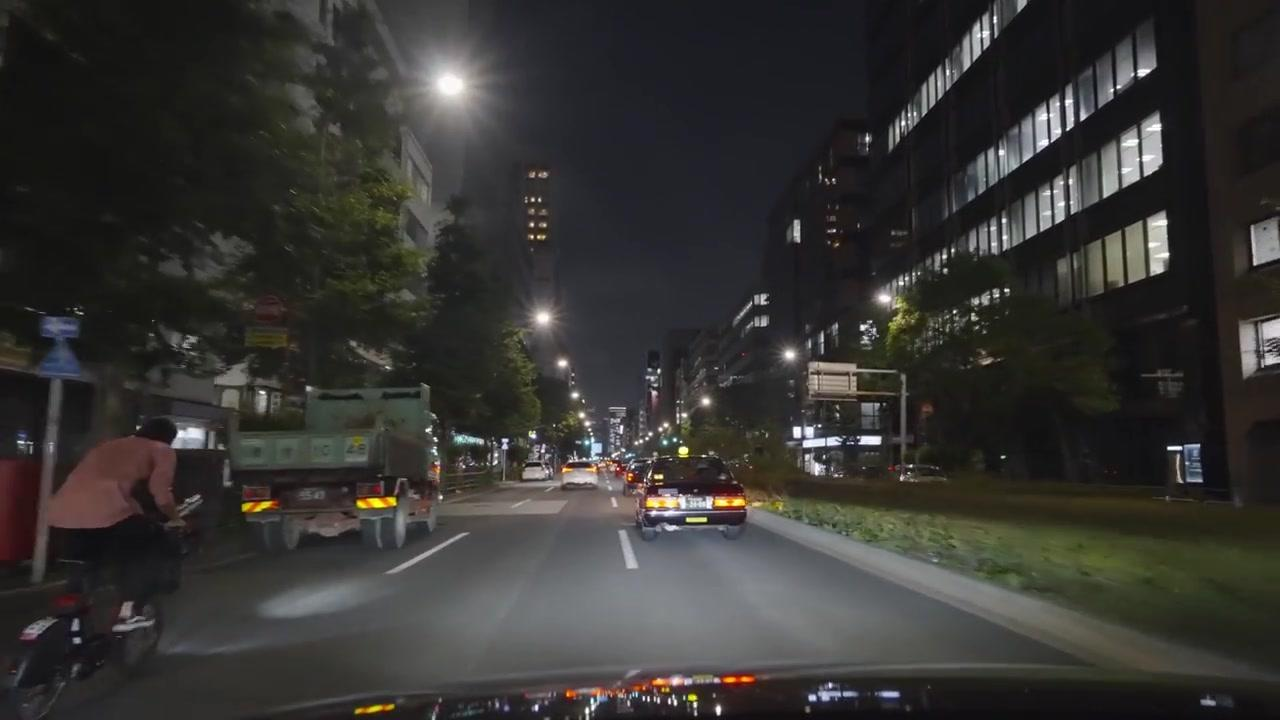bus: (797, 362, 903, 480)
car: (635, 456, 749, 540), (560, 458, 599, 491), (599, 459, 630, 493), (896, 463, 948, 481), (623, 459, 648, 494), (523, 462, 548, 480)
motorcycle: (1, 501, 195, 720)
person: (46, 416, 181, 644)
truck: (227, 382, 443, 554)
